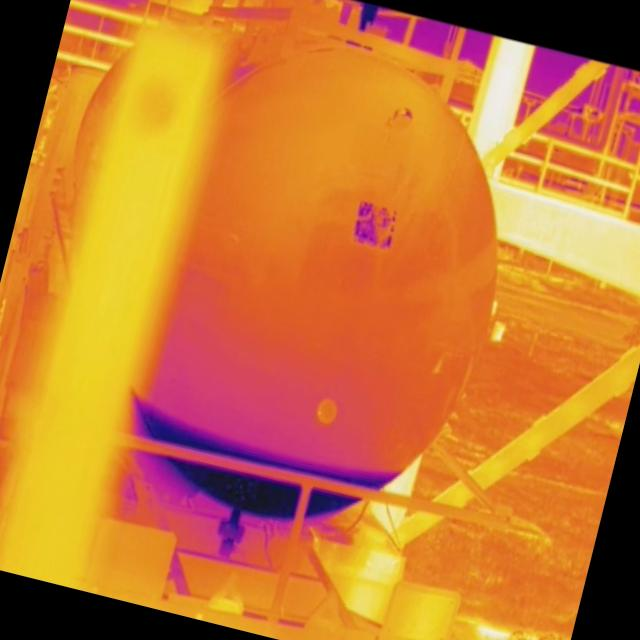tank: (115, 21, 543, 562)
